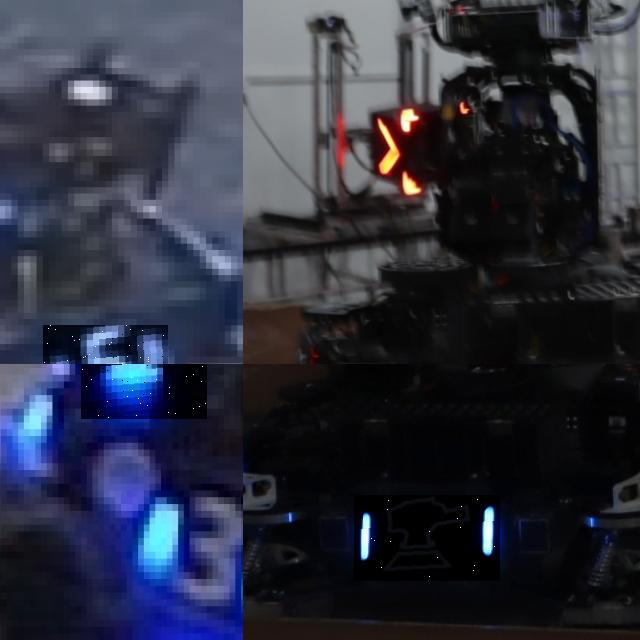B3: (126, 476, 243, 626), (81, 364, 206, 418)
B5: (42, 325, 168, 364)
Bs: (354, 495, 500, 581)
